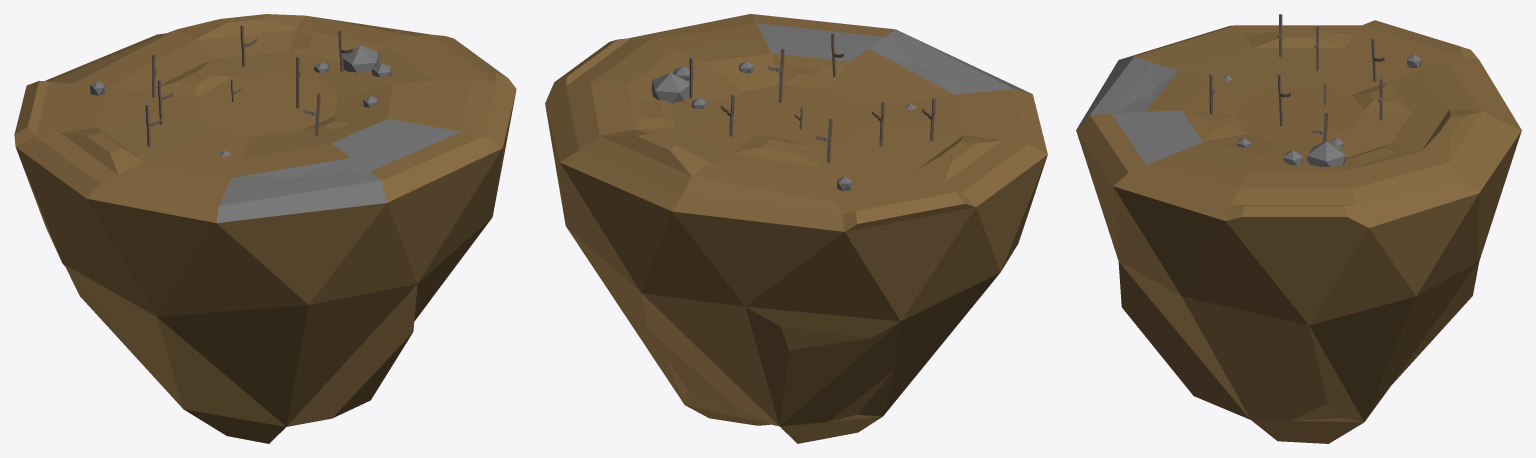
Rendered from wasteLand.glb.
3 renders of one model, left to right at view 1: azimuth 30°, elevation 25°; view 2: azimuth 150°, elevation 25°; view 3: azimuth 270°, elevation 25°, orthographic. The views are drawn at different scales.
Visible parts, largest first — view 1: planet, Icosphere.005; view 2: planet, Icosphere.005; view 3: planet, Icosphere.005.
Boxes of the visible parts, box(x1,y1,x2,y2) form: planet: box(14, 14, 516, 443); Icosphere.005: box(343, 45, 379, 72); planet: box(545, 14, 1047, 443); Icosphere.005: box(651, 73, 689, 102); planet: box(1076, 20, 1521, 443); Icosphere.005: box(1307, 141, 1345, 166).
Size of the model in its own units: 2.81 by 2.31 by 2.62.
